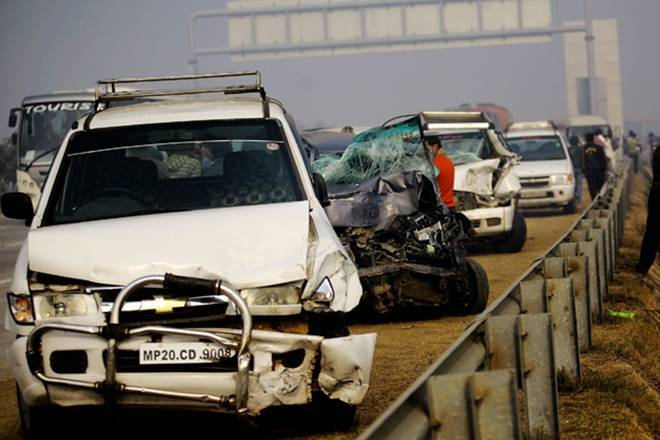accident: (69, 129, 478, 420)
